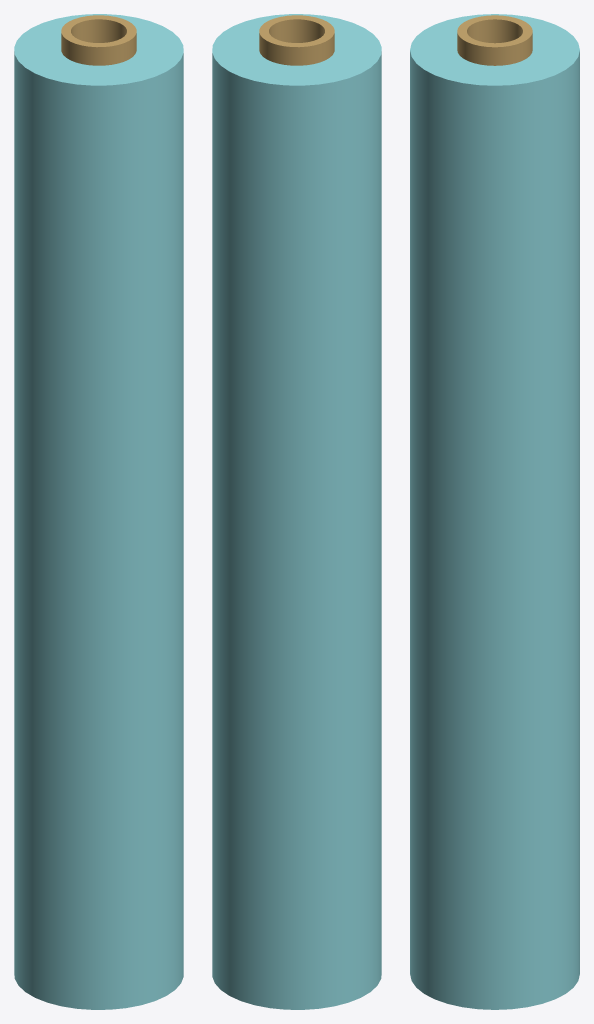
File: Roll of Fabric.fbx
3 views of the same model, side by side, from view 1: azimuth 30°, elevation 25°; view 2: azimuth 150°, elevation 25°; view 3: azimuth 270°, elevation 25° (orthographic).
Visible parts, largest first — view 1: Roll of Fabric; view 2: Roll of Fabric; view 3: Roll of Fabric.
Boxes of the visible parts, <box> form: Roll of Fabric: <box>14,14,183,1009</box>; Roll of Fabric: <box>212,14,381,1009</box>; Roll of Fabric: <box>410,14,579,1009</box>.
Bounding box in the file's own units: 10.16 × 63.41 × 10.16.
